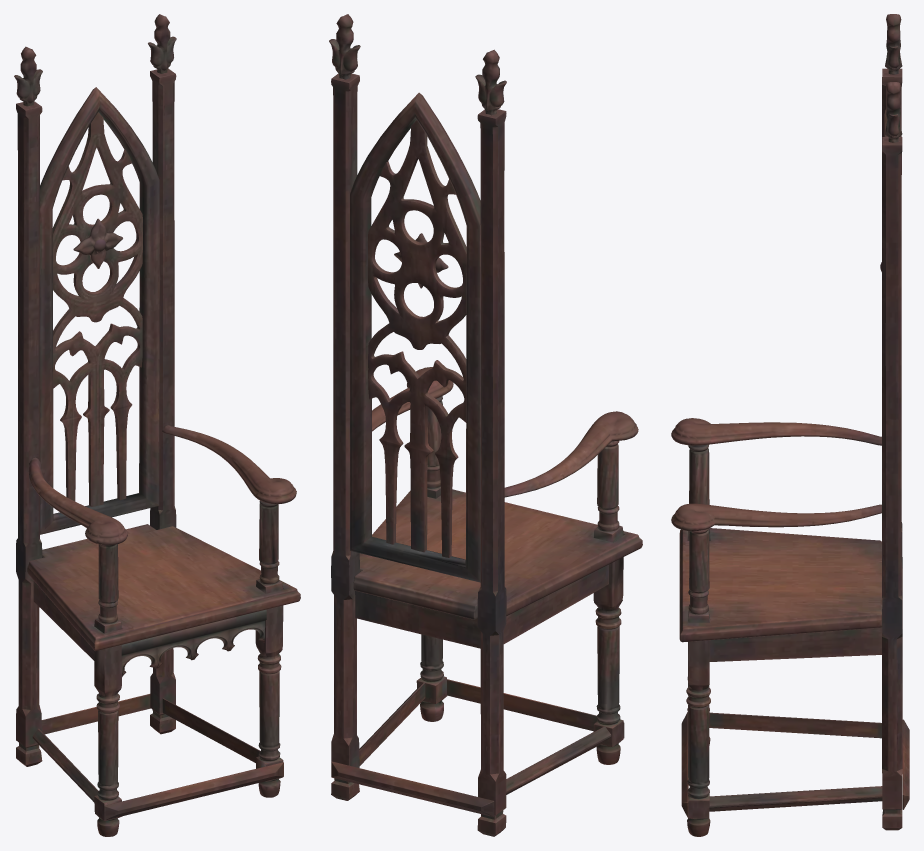
File: wooden-chair.glb
3 views of the same model, side by side, from view 1: azimuth 30°, elevation 25°; view 2: azimuth 150°, elevation 25°; view 3: azimuth 270°, elevation 25° (orthographic). The views are drawn at different scales.
Visible parts, largest first — view 1: WoodenChair_01; view 2: WoodenChair_01; view 3: WoodenChair_01.
Boxes of the visible parts, box(x1,y1,x2,y2) form: WoodenChair_01: box(14, 14, 300, 836); WoodenChair_01: box(329, 14, 642, 836); WoodenChair_01: box(671, 14, 909, 836).
Size of the model in its own units: 0.6881 by 2.27 by 0.6584.
1 material, 1 textured.
